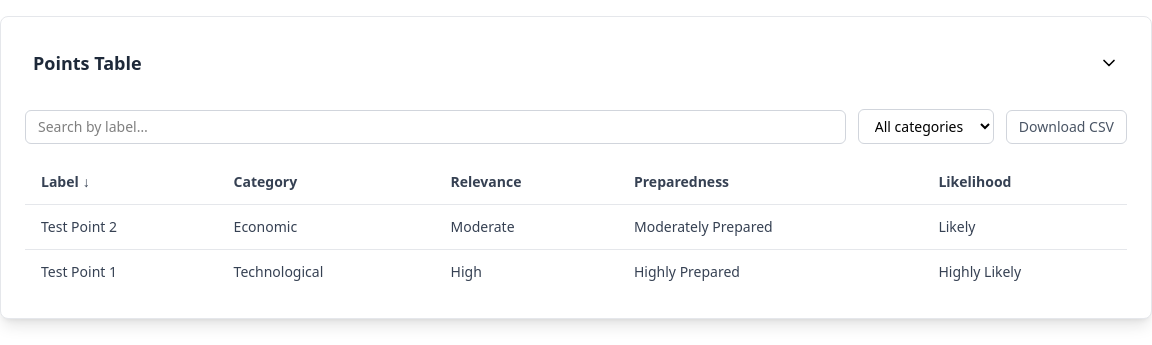
Test: PointsTable › Filtering › should filter rows by label search term
Type "Point 1" into the search field named "Search points by label". click: (435, 126)
box: 25,110 -> 846,144
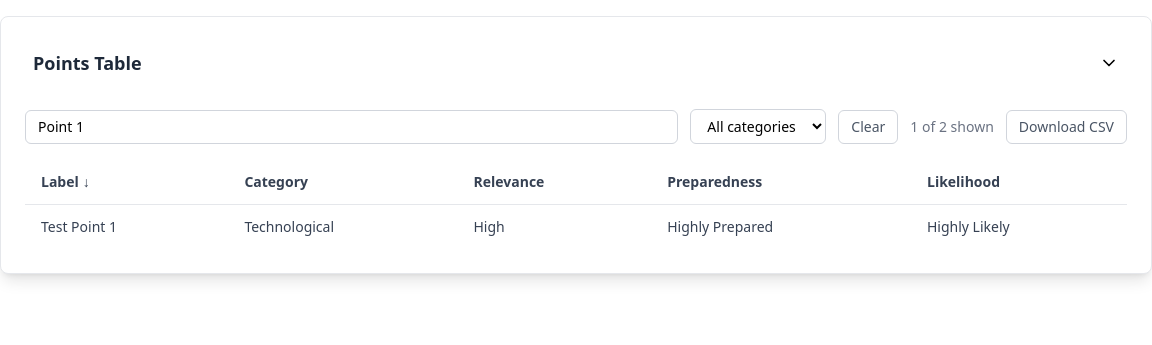
Expected: the text "Test Point 1" is shown, 41,217 -> 117,237
Expected: the text "Test Point 2" is gone
